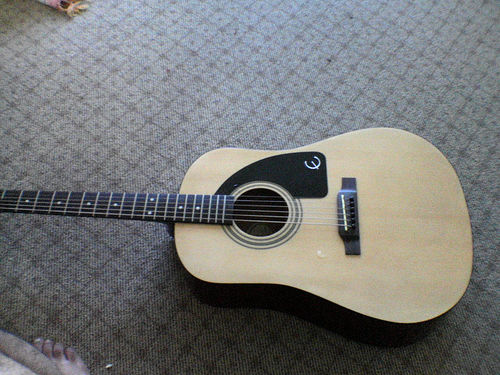guitar: (1, 127, 477, 342)
